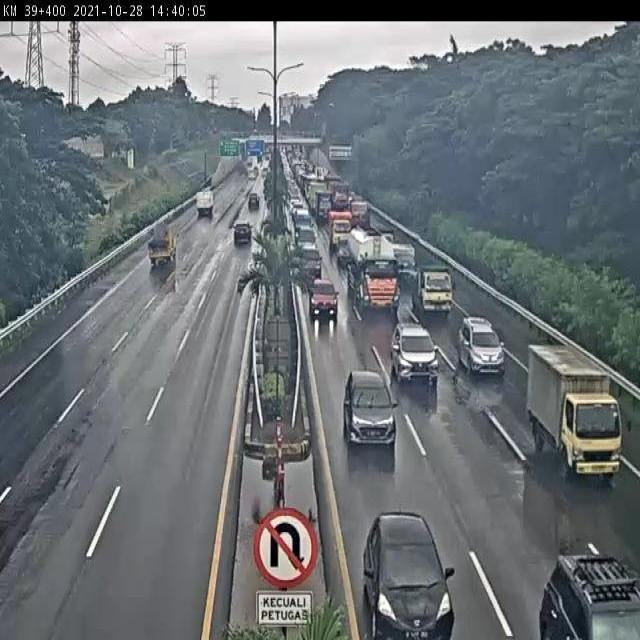big truck: (345, 224, 397, 307)
car: (362, 511, 457, 638), (344, 369, 396, 443), (453, 313, 500, 367), (391, 323, 437, 377), (309, 278, 338, 314), (298, 244, 321, 273), (230, 220, 256, 245), (296, 224, 317, 251)
mid truck: (246, 194, 263, 214)
small truck: (526, 342, 620, 474), (410, 259, 451, 309), (147, 228, 181, 268), (390, 239, 415, 273)
